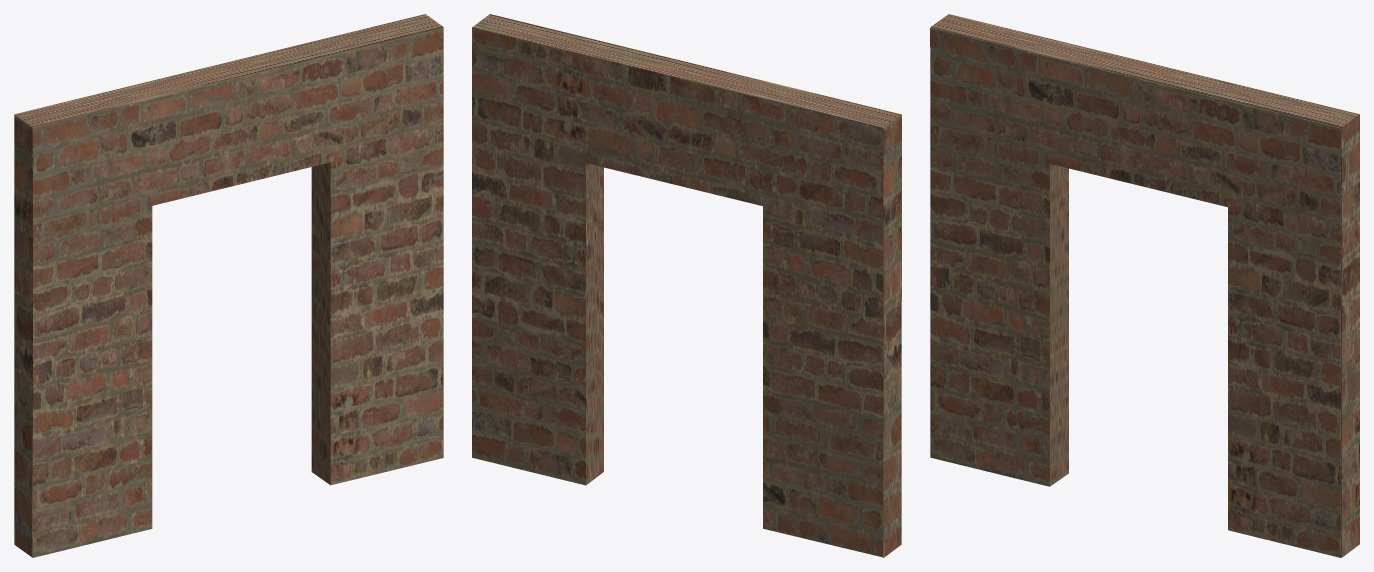
Rendered from WallBicks_005.glb.
3 views of the same model, side by side, from view 1: azimuth 30°, elevation 25°; view 2: azimuth 150°, elevation 25°; view 3: azimuth 330°, elevation 25° (orthographic).
Parts seen in each view (by area): view 1: WallBicks.005; view 2: WallBicks.005; view 3: WallBicks.005.
Part boxes in pixels (x1,y1,x2,y2): WallBicks.005: [14, 14, 443, 557]; WallBicks.005: [472, 14, 901, 557]; WallBicks.005: [930, 14, 1359, 557].
Size of the model in its own units: 4.02 by 4.01 by 0.3171.
1 material, 1 textured.
